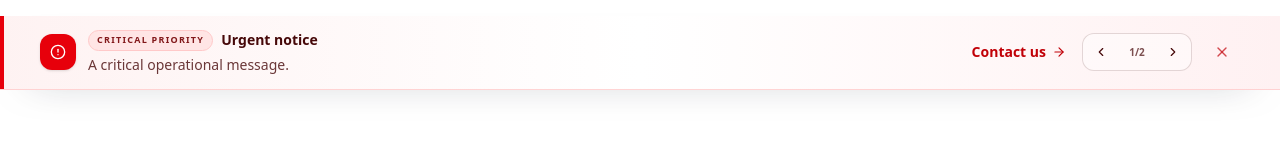
Test: ImportantNotice › shows multiple active notices one at a time with higher priorities first
The image size is (1280, 160).
Expected: the text "A critical operational message." is shown, [88,55,289,74]
Expected: the text "Contact our distribution team." is not shown
Click the button named "Next notification".
click(1173, 52)  # box [1159,38,1187,66]
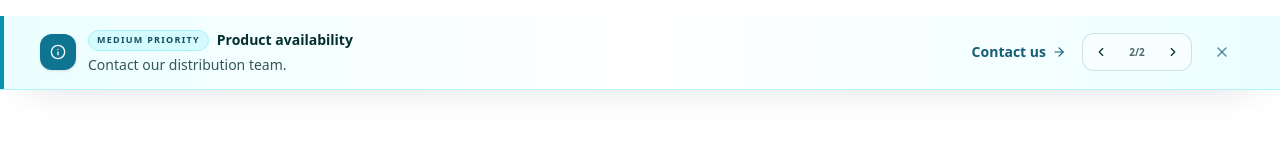
Now the text "Contact our distribution team." is shown, box [88,55,287,74]
Now the text "A critical operational message." is gone
Now the text "2/2" is shown, box [1129,45,1145,59]
